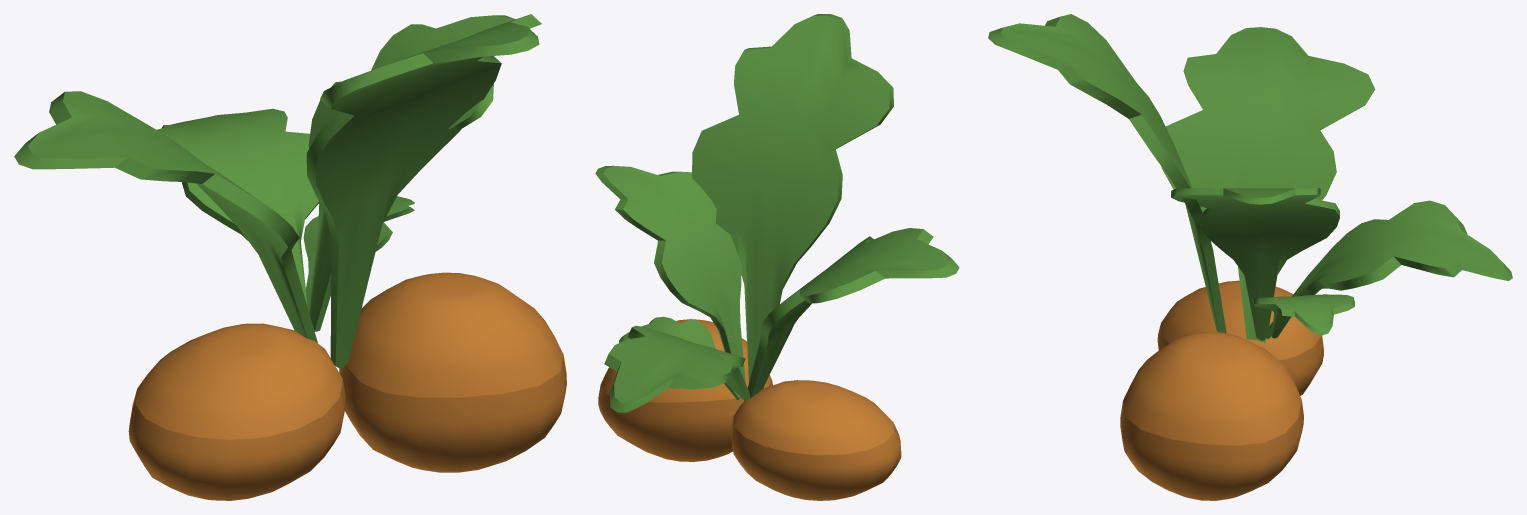
File: mesh_patate.fbx
3 views of the same model, side by side, from view 1: azimuth 30°, elevation 25°; view 2: azimuth 150°, elevation 25°; view 3: azimuth 270°, elevation 25° (orthographic). The views are drawn at different scales.
Parts seen in each view (by area): view 1: Object004; view 2: Object004; view 3: Object004.
Boxes of the visible parts, x1,y1,x2,y2 form: Object004: (14, 14, 566, 500); Object004: (595, 14, 959, 500); Object004: (988, 14, 1512, 500).
Size of the model in its own units: 27.51 by 27.33 by 30.55.
